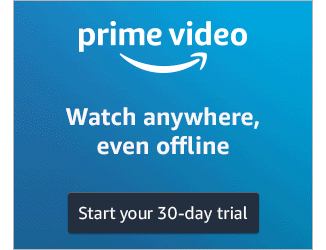fake_button: (63, 188, 266, 237)
